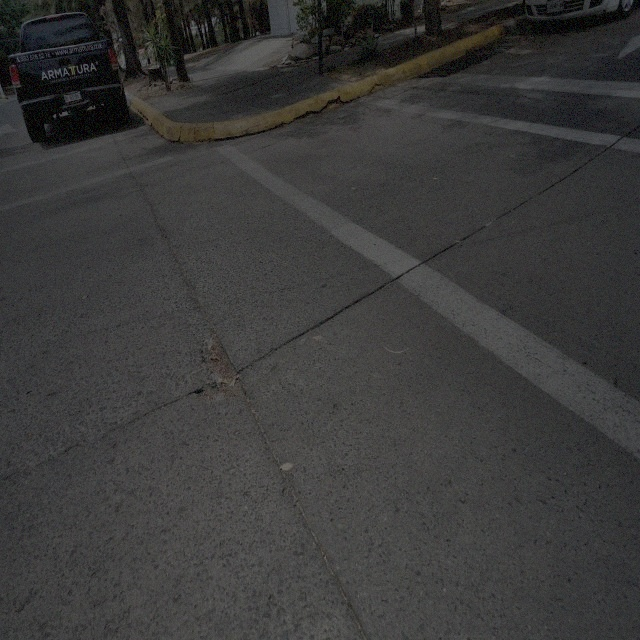pothole: (198, 326, 248, 399)
